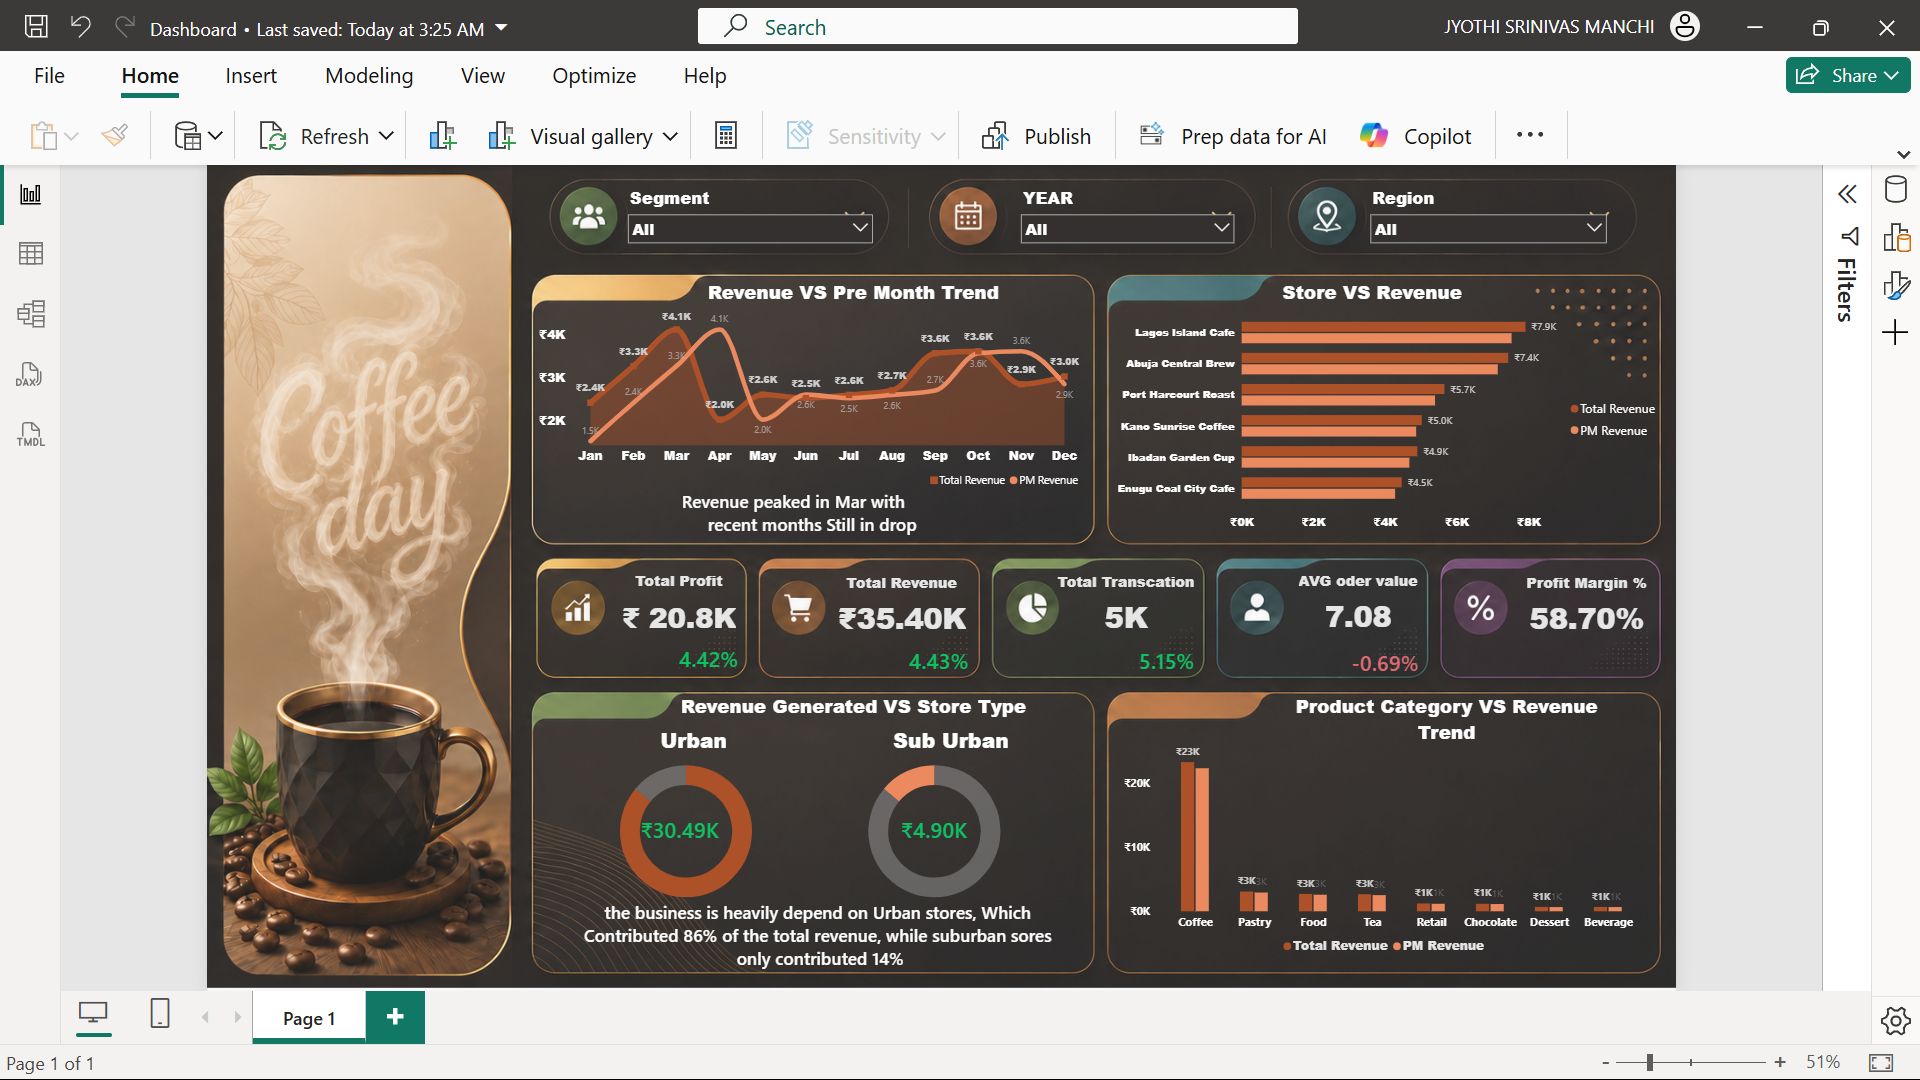

The dashboard page shown, as its layout file describes it:
{"tool":"powerbi","page":{"name":"Page 1","canvas":[1920,1080],"ordinal":0},"visuals":[{"type":"cardVisual","fields":{"Data":["Table DAX.Total Transcation"]},"box":[1082.1,498.5,238.6,151.2],"z":0},{"type":"cardVisual","fields":{"Data":["Table DAX.Total Revenue"]},"box":[759.3,517.7,299.8,114.3],"z":1000},{"type":"cardVisual","fields":{"Data":["Table DAX.Total Profit"]},"box":[485.4,502.6,265.3,142.4],"z":2000},{"type":"cardVisual","fields":{"Data":["Table DAX.Profit Margin %"]},"box":[1694,460.7,219.7,229.2],"z":3000},{"type":"cardVisual","fields":{"Data":["Table DAX.AVG oder value"]},"box":[1405.8,534,198.5,78],"z":4000},{"type":"card","fields":{"Values":["Table DAX.Revenue MoM %"]},"box":[862.9,599.7,187.7,99.2],"z":5000},{"type":"card","fields":{"Values":["Table DAX.Transcation MoM %"]},"box":[1160.6,599.7,187.7,99.2],"z":6000},{"type":"card","fields":{"Values":["Table DAX.Profit MoM %"]},"box":[580.3,612.6,151,71.2],"z":7000},{"type":"card","fields":{"Values":["Table DAX.AOV MoM %"]},"box":[1477.7,621.3,127.3,62.6],"z":8000},{"type":"lineChart","fields":{"Category":["Calendar.Month"],"Y":["Table DAX.Total Revenue","Table DAX.PM Revenue"]},"box":[418.5,170.4,742.1,271.8],"z":9000},{"type":"card","fields":{"Values":["Table DAX.Insight linechart"]},"box":[563,388.3,407.7,129.4],"z":10000},{"type":"clusteredBarChart","fields":{"Category":["DimStore.StoreName"],"Y":["Table DAX.Total Revenue","Table DAX.PM Revenue"]},"box":[1173.5,166.1,746.4,332.2],"z":11000},{"type":"clusteredColumnChart","fields":{"Category":["DimProduct.Category"],"Y":["Table DAX.Total Revenue","Table DAX.PM Revenue"]},"box":[1182.1,733.4,716.2,319.3],"z":12000},{"type":"donutChart","fields":{"Category":["DimStore.StoreType"],"Y":["Table DAX.Total Revenue"]},"box":[446.5,748.5,358.1,245.9],"z":13000},{"type":"donutChart","fields":{"Category":["DimStore.StoreType"],"Y":["Table DAX.Total Revenue"]},"box":[768,748.5,364.6,245.9],"z":14000},{"type":"card","fields":{"Values":["Table DAX.Total Revenue"]},"box":[555,845.3,129.4,49],"z":15000},{"type":"card","fields":{"Values":["Table DAX.Total Revenue"]},"box":[856.4,821.9,187.7,97.1],"z":16000},{"type":"card","fields":{"Values":["Table DAX.Store Type Insight"]},"box":[470.3,921.1,662.3,159.6],"z":17000},{"type":"slicer","fields":{"Values":["DimCustomer.Segment"]},"box":[545.8,28,330,84.1],"z":18000},{"type":"slicer","fields":{"Values":["Calendar.YEAR"]},"box":[1059.2,28,289.1,84.1],"z":19000},{"type":"slicer","fields":{"Values":["DimStore.Region"]},"box":[1516.8,28.4,319,82.7],"z":20000},{"type":"textbox","box":[82.7,822.2,189,229.2],"z":21000},{"type":"textbox","box":[655.8,148.8,526.3,45.3],"z":22000},{"type":"textbox","box":[1406.5,148.8,396.9,66.9],"z":22001},{"type":"textbox","box":[1406.5,690.3,429.3,75.5],"z":22002},{"type":"textbox","box":[619.1,690.3,541.4,58.2],"z":22003},{"type":"textbox","box":[485.4,733.4,304.2,56.1],"z":22004},{"type":"textbox","box":[862.9,733.4,220,56.1],"z":22005}]}

Visuals, with their boxes on the page's 1920x1080 design canvas (x1, y1, x2, y2). These are canvas units, not pixel positions in the 1920x1080 screenshot, which may show the page scaled, cropped or inside an application window:
cardVisual - Table DAX.Total Transcation: (left=1082, top=498, right=1321, bottom=650)
cardVisual - Table DAX.Total Revenue: (left=759, top=518, right=1059, bottom=632)
cardVisual - Table DAX.Total Profit: (left=485, top=503, right=751, bottom=645)
cardVisual - Table DAX.Profit Margin %: (left=1694, top=461, right=1914, bottom=690)
cardVisual - Table DAX.AVG oder value: (left=1406, top=534, right=1604, bottom=612)
card - Table DAX.Revenue MoM %: (left=863, top=600, right=1051, bottom=699)
card - Table DAX.Transcation MoM %: (left=1161, top=600, right=1348, bottom=699)
card - Table DAX.Profit MoM %: (left=580, top=613, right=731, bottom=684)
card - Table DAX.AOV MoM %: (left=1478, top=621, right=1605, bottom=684)
lineChart - Calendar.Month x Table DAX.Total Revenue: (left=418, top=170, right=1161, bottom=442)
card - Table DAX.Insight linechart: (left=563, top=388, right=971, bottom=518)
clusteredBarChart - DimStore.StoreName x Table DAX.Total Revenue: (left=1174, top=166, right=1920, bottom=498)
clusteredColumnChart - DimProduct.Category x Table DAX.Total Revenue: (left=1182, top=733, right=1898, bottom=1053)
donutChart - DimStore.StoreType x Table DAX.Total Revenue: (left=446, top=748, right=805, bottom=994)
donutChart - DimStore.StoreType x Table DAX.Total Revenue: (left=768, top=748, right=1133, bottom=994)
card - Table DAX.Total Revenue: (left=555, top=845, right=684, bottom=894)
card - Table DAX.Total Revenue: (left=856, top=822, right=1044, bottom=919)
card - Table DAX.Store Type Insight: (left=470, top=921, right=1133, bottom=1081)
slicer - DimCustomer.Segment: (left=546, top=28, right=876, bottom=112)
slicer - Calendar.YEAR: (left=1059, top=28, right=1348, bottom=112)
slicer - DimStore.Region: (left=1517, top=28, right=1836, bottom=111)
textbox: (left=83, top=822, right=272, bottom=1051)
textbox: (left=656, top=149, right=1182, bottom=194)
textbox: (left=1406, top=149, right=1803, bottom=216)
textbox: (left=1406, top=690, right=1836, bottom=766)
textbox: (left=619, top=690, right=1160, bottom=748)
textbox: (left=485, top=733, right=790, bottom=790)
textbox: (left=863, top=733, right=1083, bottom=790)
